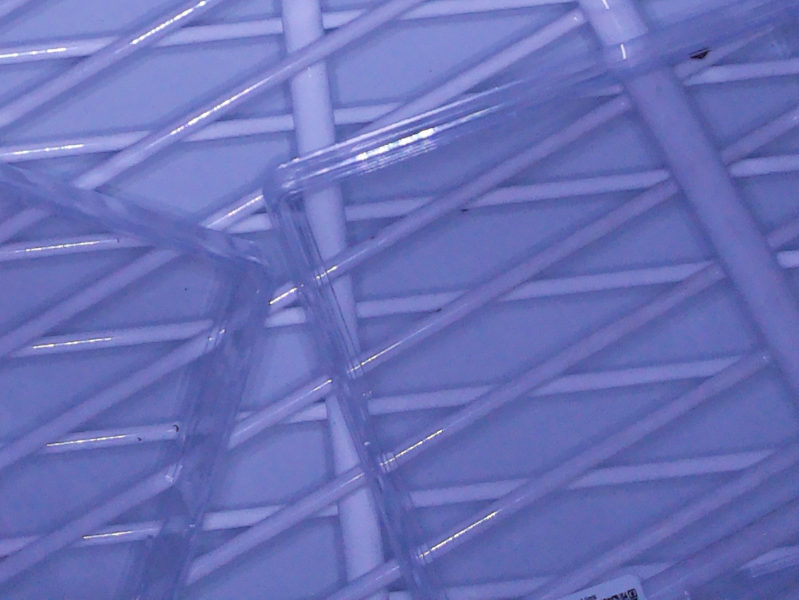plate: (263, 1, 799, 600), (1, 162, 283, 600)
